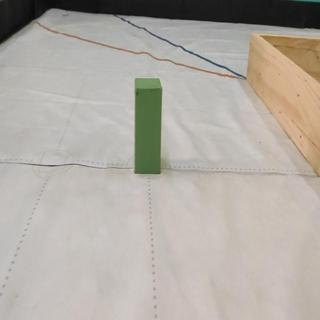greenbox: (132, 75, 165, 176)
